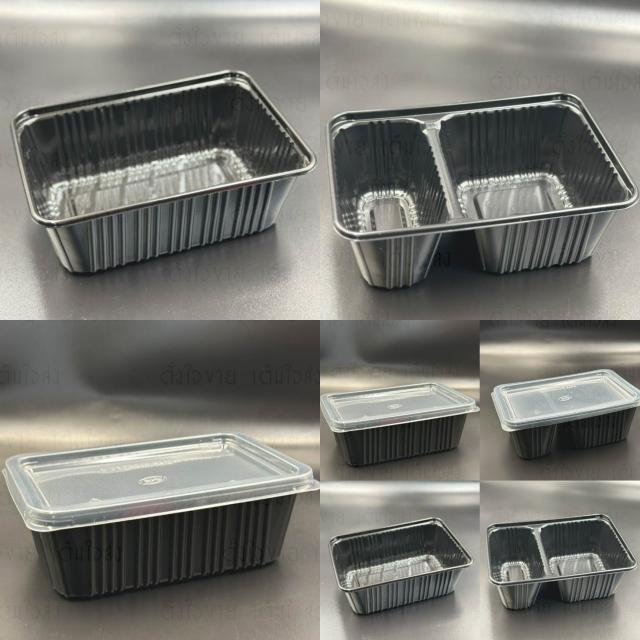Single-Use-Plastic: (326, 92, 639, 288), (12, 71, 316, 272), (4, 432, 319, 599), (486, 514, 638, 609), (329, 518, 472, 613), (320, 382, 479, 466), (491, 369, 640, 458)
